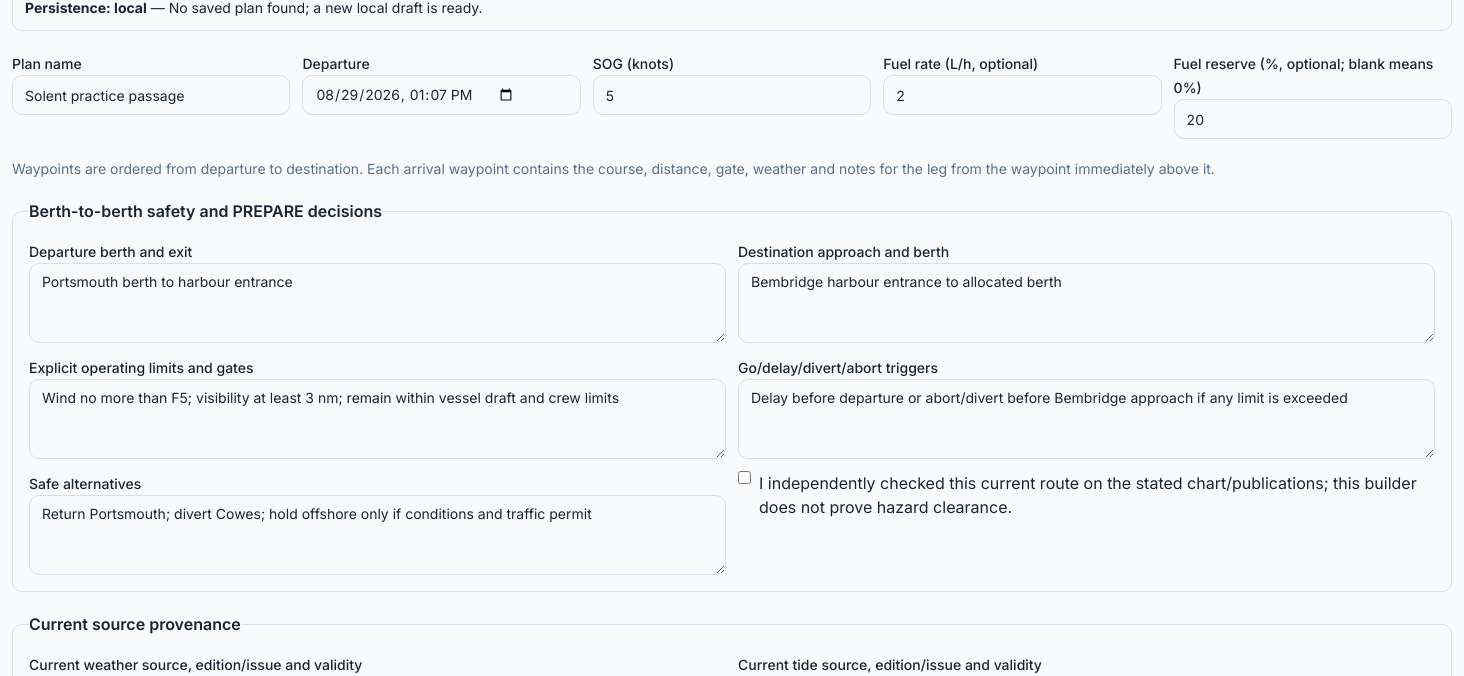
passage plan flow › blocks invalid completion and gives actionable errors
The image size is (1464, 676).
Replace the text in the number field labelled "SOG (knots)" with "0": (732, 95) [593, 75, 871, 115]
(page scrolled)
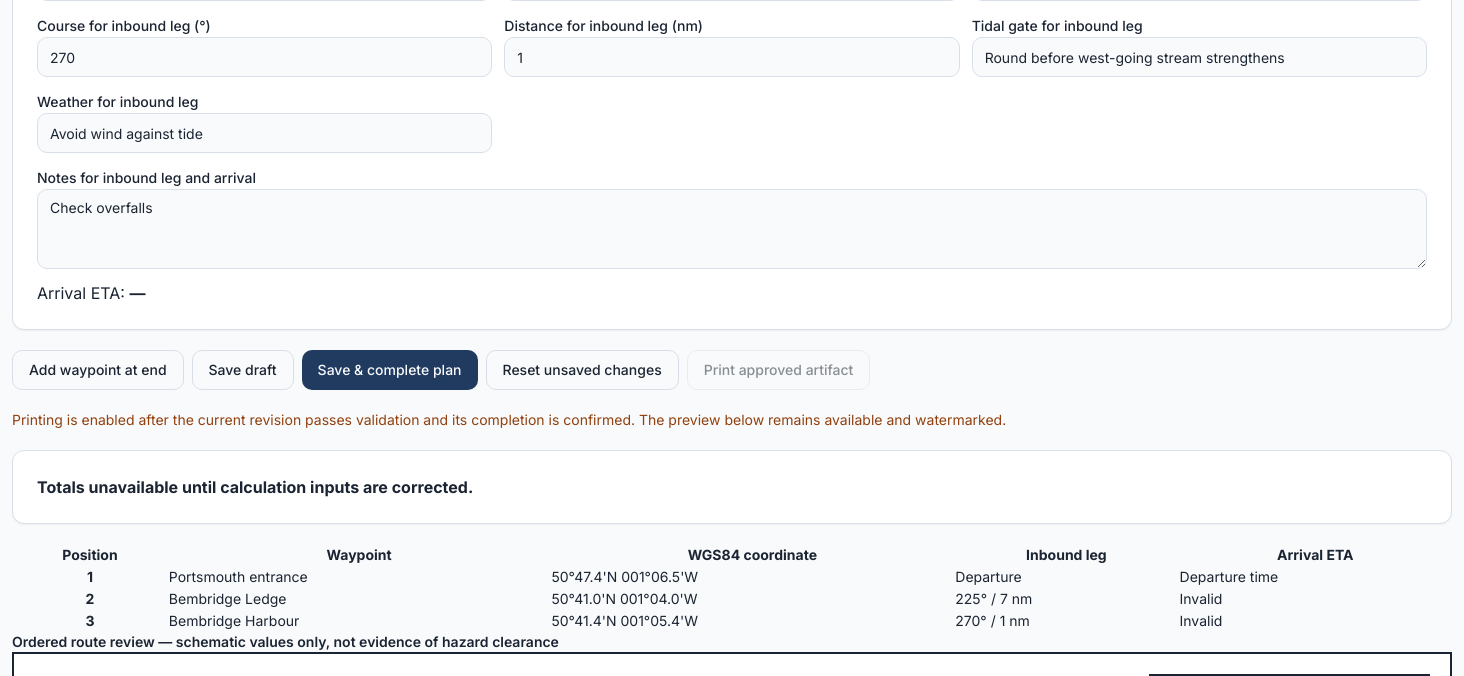
Click the button "Save & complete plan": (390, 370) [302, 350, 478, 390]
(page scrolled)
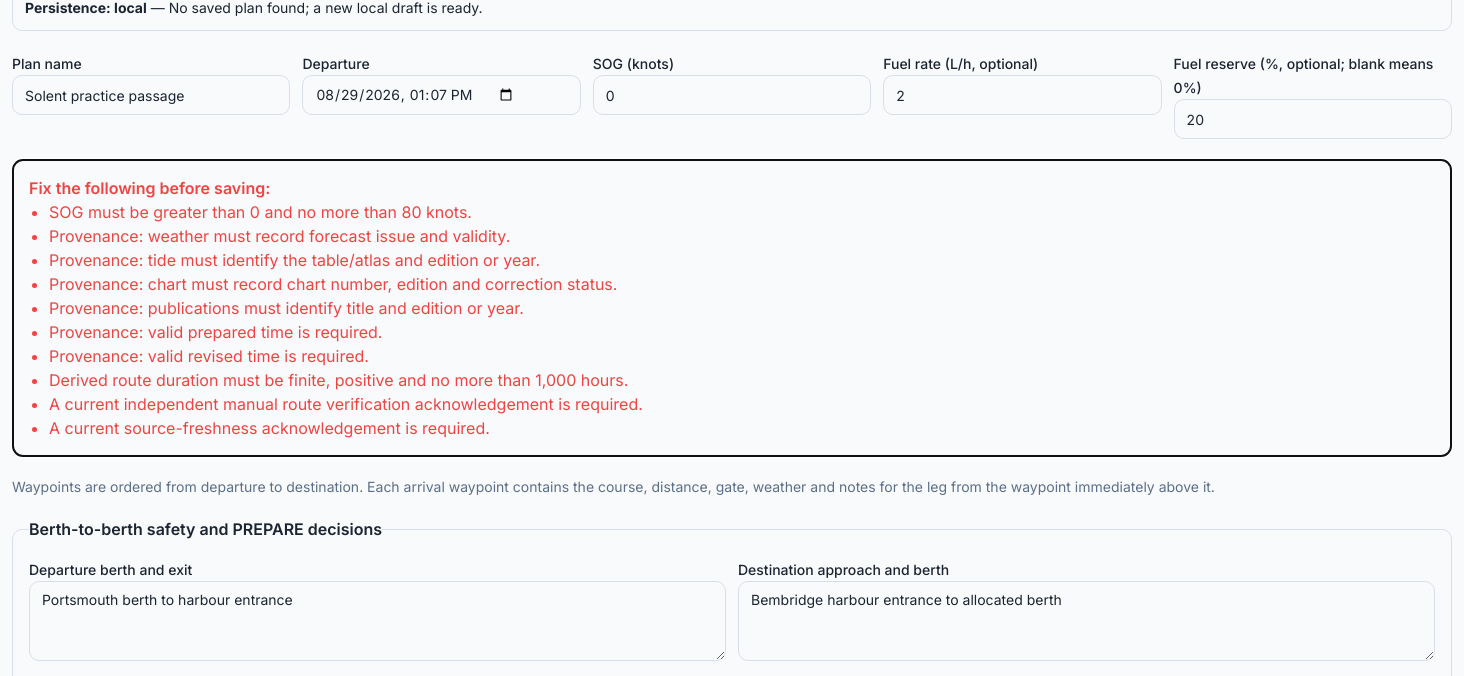
Check: the message shows "SOG must be greater than 0", box [49, 202, 472, 222]
